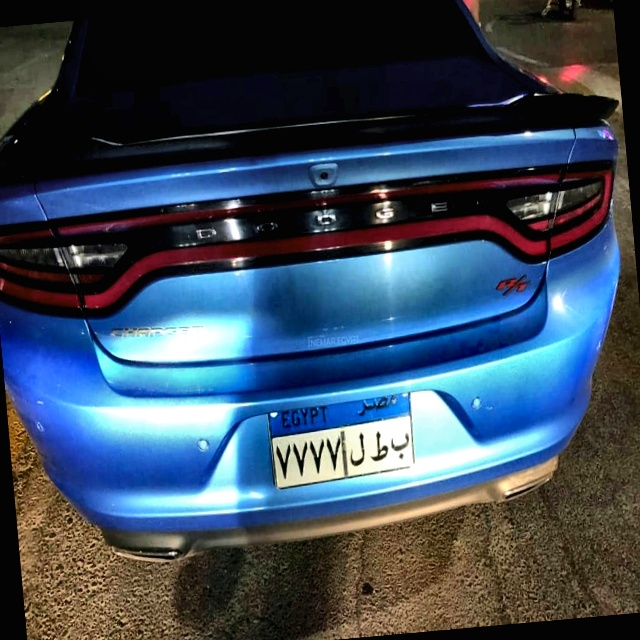License Plate: (264, 390, 419, 494)
